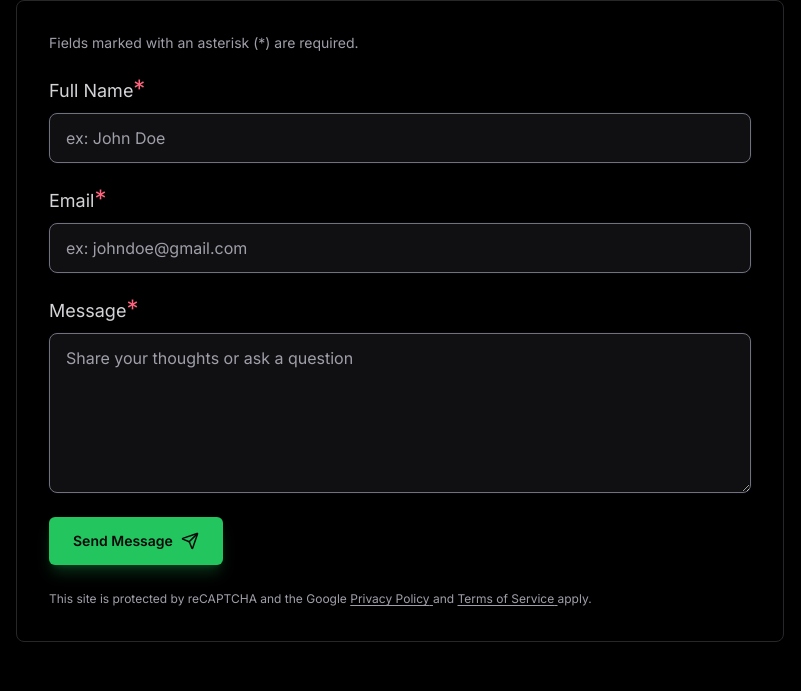
it: ContactForm › renders server-side field errors
In the field labelled "Full Name *": [400, 138] box [49,113,751,163], type "Jane Doe"
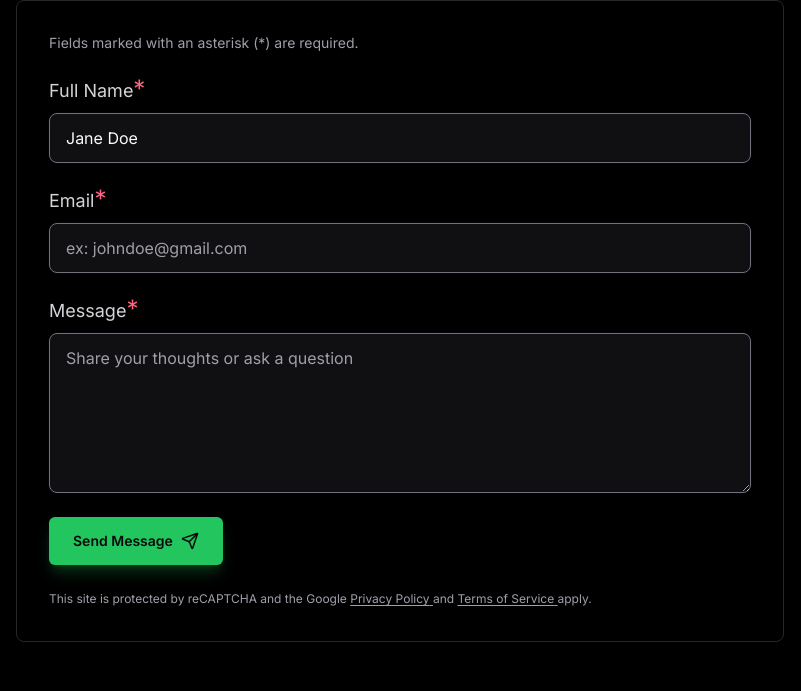
In the field labelled "Email *": [400, 248] box [49,223,751,273], type "jane@example.com"
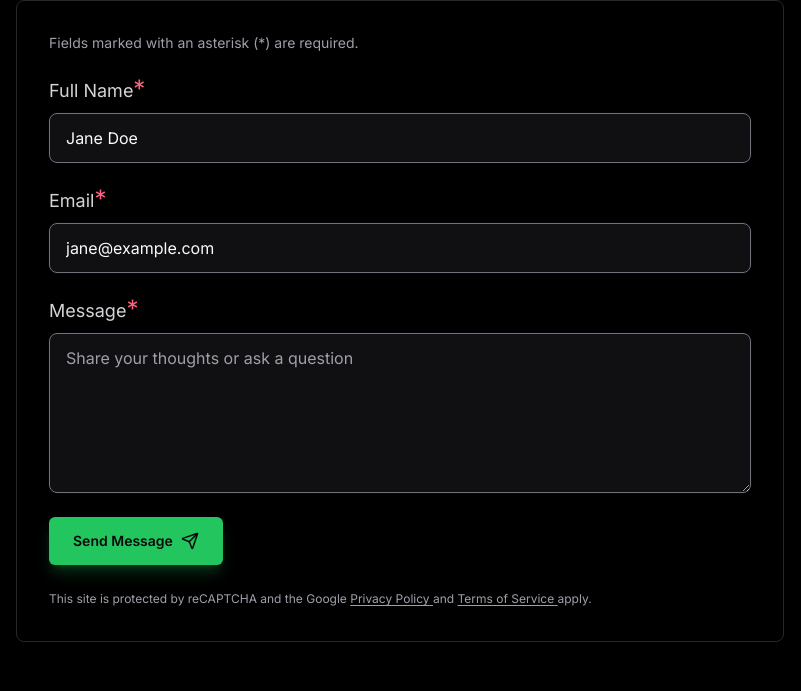
In the text box labelled "Message *": [400, 413] box [49,333,751,493], type "Hello there, this is a message."
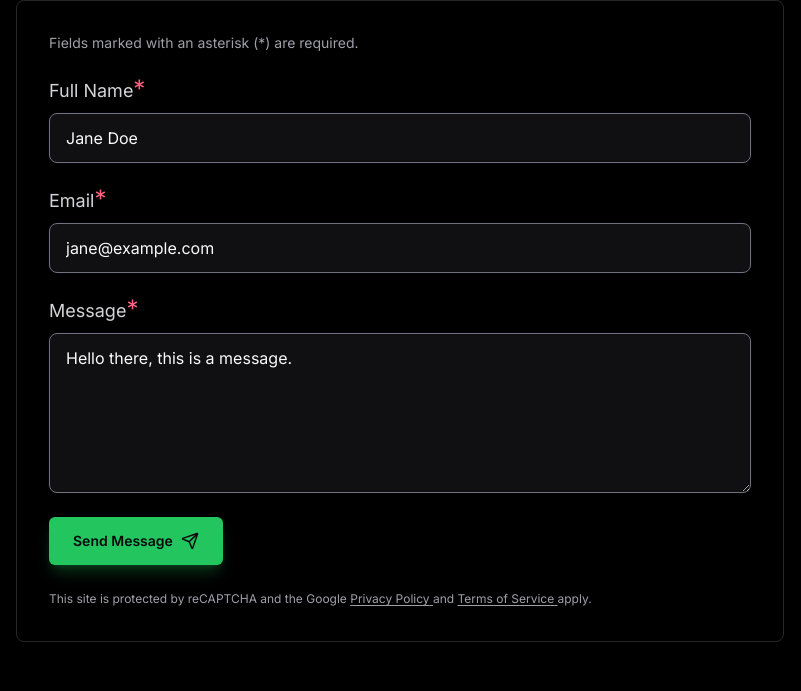
Submit the form
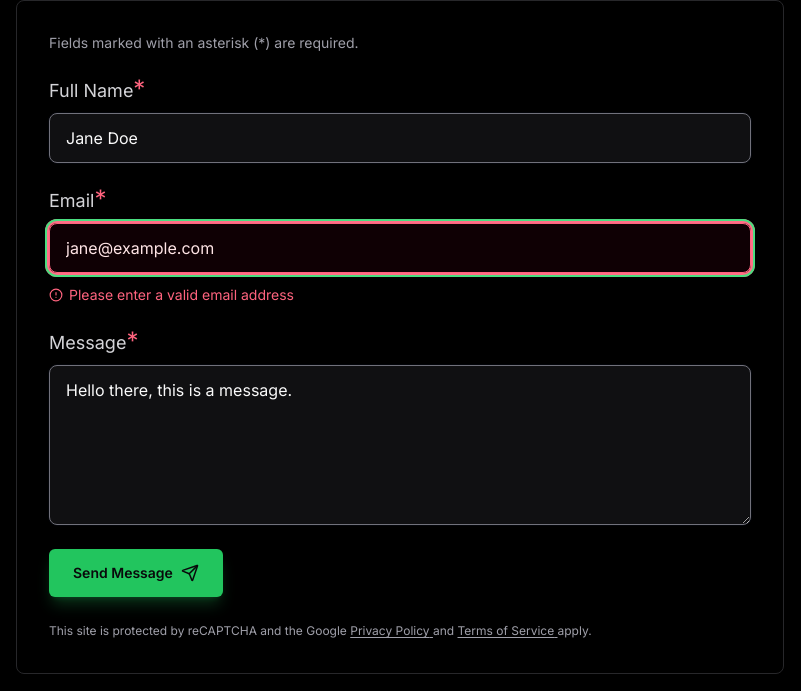
Result: the text "Please enter a valid email address" is shown at [69,285,294,305]
